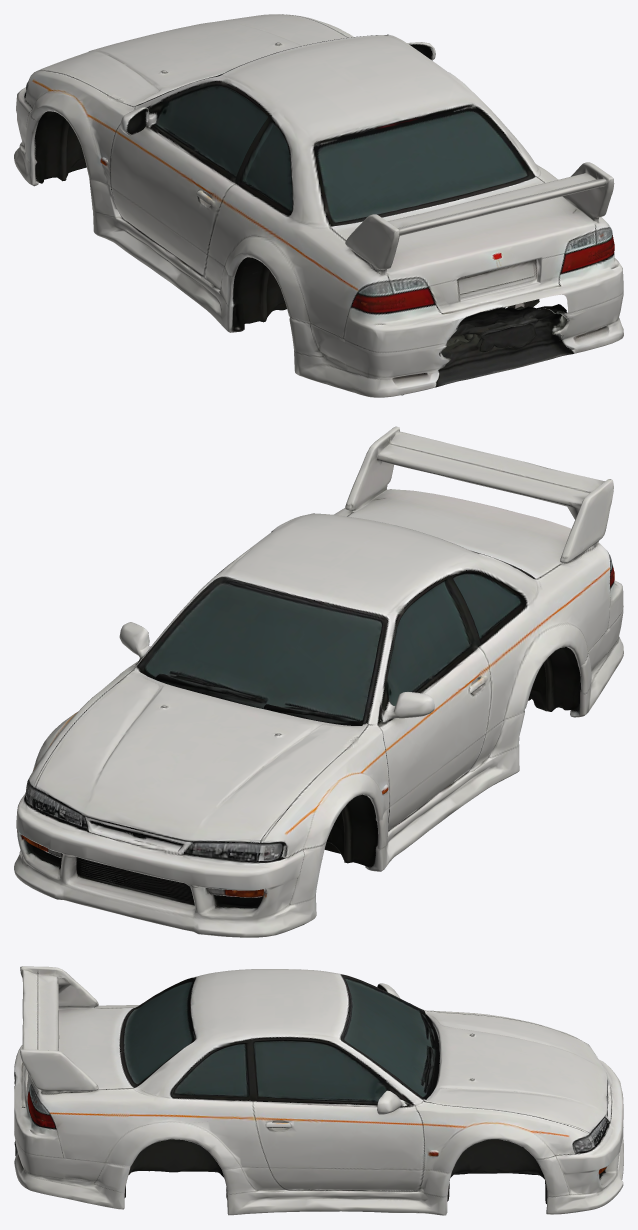
File: jdmcoupe.glb
3 renders of one model, top to bottom at view 1: azimuth 30°, elevation 25°; view 2: azimuth 150°, elevation 25°; view 3: azimuth 270°, elevation 25°, orthographic. The views are drawn at different scales.
Parts seen in each view (by area): view 1: tripo_node_bb8746b0-7d12-4753-afc9-c70665307d61; view 2: tripo_node_bb8746b0-7d12-4753-afc9-c70665307d61; view 3: tripo_node_bb8746b0-7d12-4753-afc9-c70665307d61.
Boxes of the visible parts, left/top/right/bottom form: tripo_node_bb8746b0-7d12-4753-afc9-c70665307d61: left=14, top=14, right=623, bottom=397; tripo_node_bb8746b0-7d12-4753-afc9-c70665307d61: left=14, top=426, right=623, bottom=937; tripo_node_bb8746b0-7d12-4753-afc9-c70665307d61: left=14, top=966, right=623, bottom=1215.
Size of the model in its own units: 2.05 by 1.3 by 4.35.
1 material, 1 textured.
